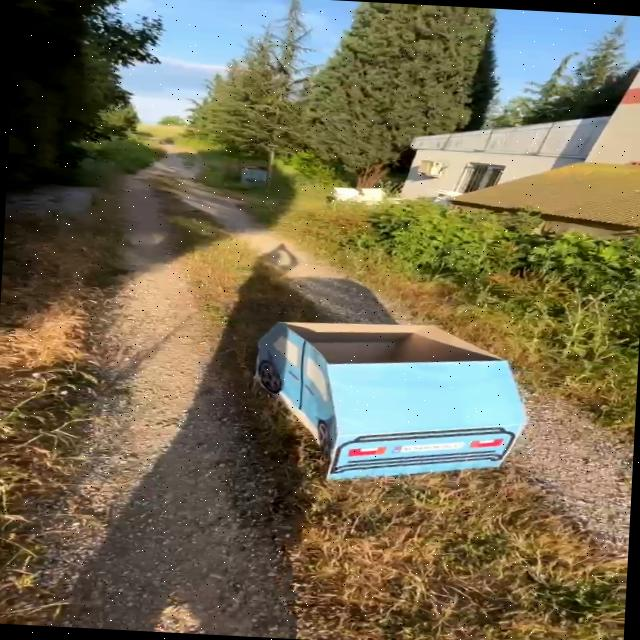blue_car: (196, 276, 565, 531)
